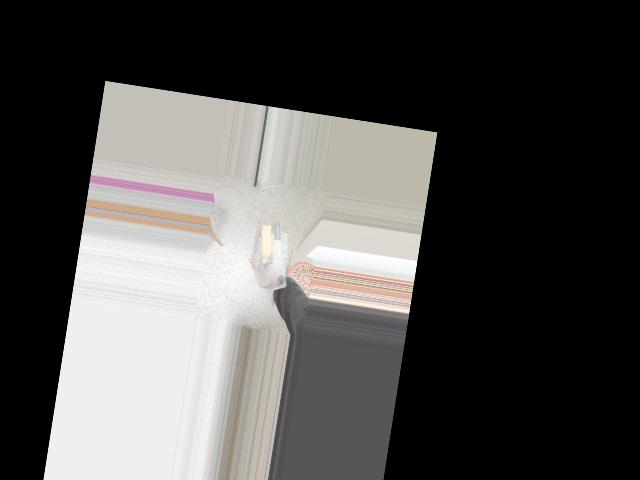cheese: (246, 219, 297, 291)
